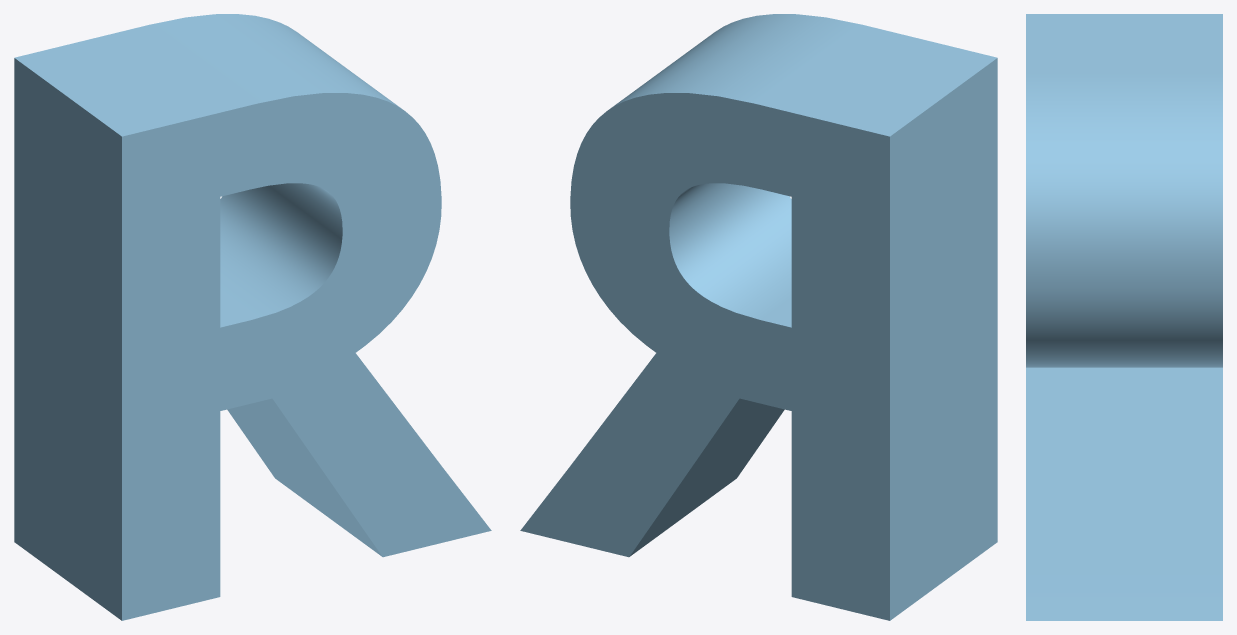
Rendered from small_r.obj.
3 renders of one model, left to right at view 1: azimuth 30°, elevation 25°; view 2: azimuth 150°, elevation 25°; view 3: azimuth 270°, elevation 25°, orthographic. The views are drawn at different scales.
Parts seen in each view (by area): view 1: mesh12, mesh11, mesh10, mesh9, mesh19, mesh3, mesh20, mesh18; view 2: mesh13, mesh11, mesh10, mesh9, mesh19, mesh3, mesh20, mesh18; view 3: mesh5, mesh8, mesh9, mesh7, mesh10, mesh6.
Part boxes in pixels (x1,y1,x2,y2): mesh12: (122,93,491,620); mesh11: (14,58,121,620); mesh10: (14,25,256,136); mesh9: (149,14,394,104); mesh19: (220,184,342,286); mesh3: (227,398,382,556); mesh20: (220,214,319,319); mesh18: (280,183,342,230); mesh13: (520,93,889,620); mesh11: (890,58,997,620); mesh10: (755,25,997,136); mesh9: (617,14,862,104); mesh19: (669,184,791,286); mesh3: (629,398,784,556); mesh20: (692,214,791,319); mesh18: (669,183,731,230); mesh5: (1026,367,1222,620); mesh8: (1026,169,1222,288); mesh9: (1026,74,1222,168); mesh7: (1026,289,1222,348); mesh10: (1026,14,1222,73); mesh6: (1026,348,1222,367).
Bounding box in the file's own units: 0.0792 × 0.0992 × 0.04.
